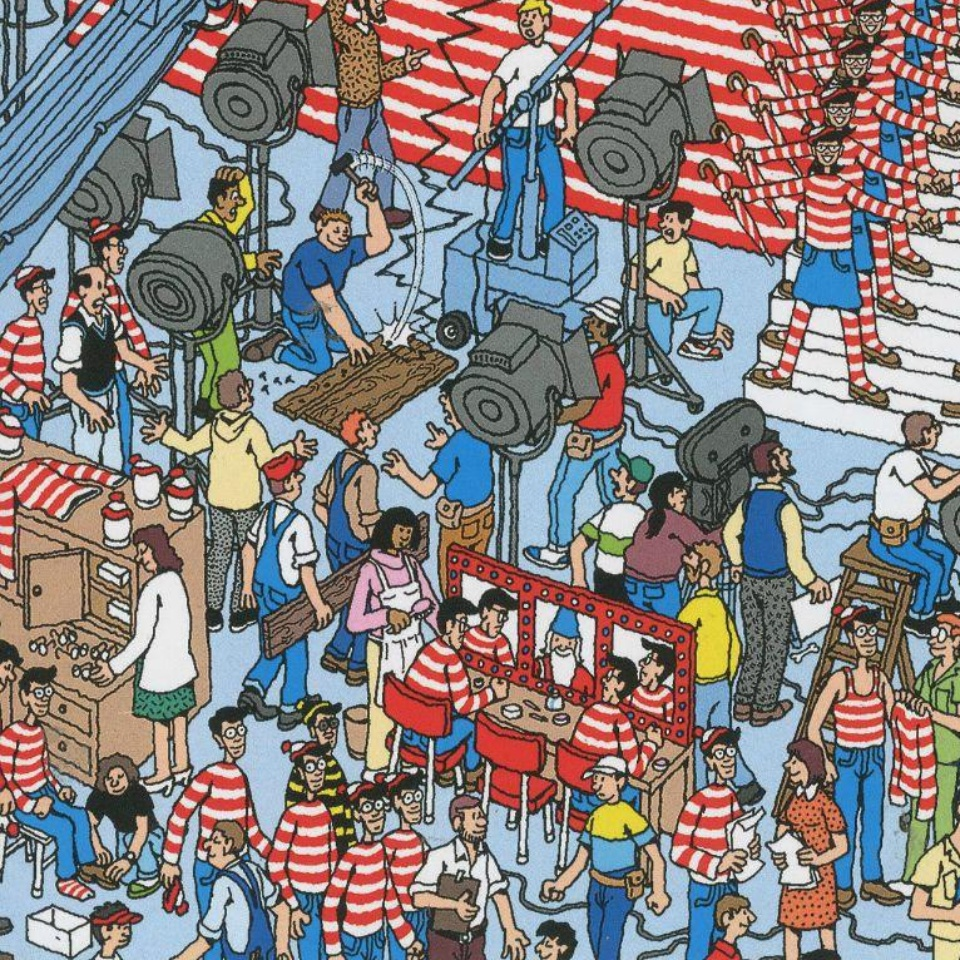waldo: (328, 776, 393, 938), (689, 723, 752, 889), (282, 744, 340, 885), (385, 767, 438, 857), (676, 724, 689, 752)
